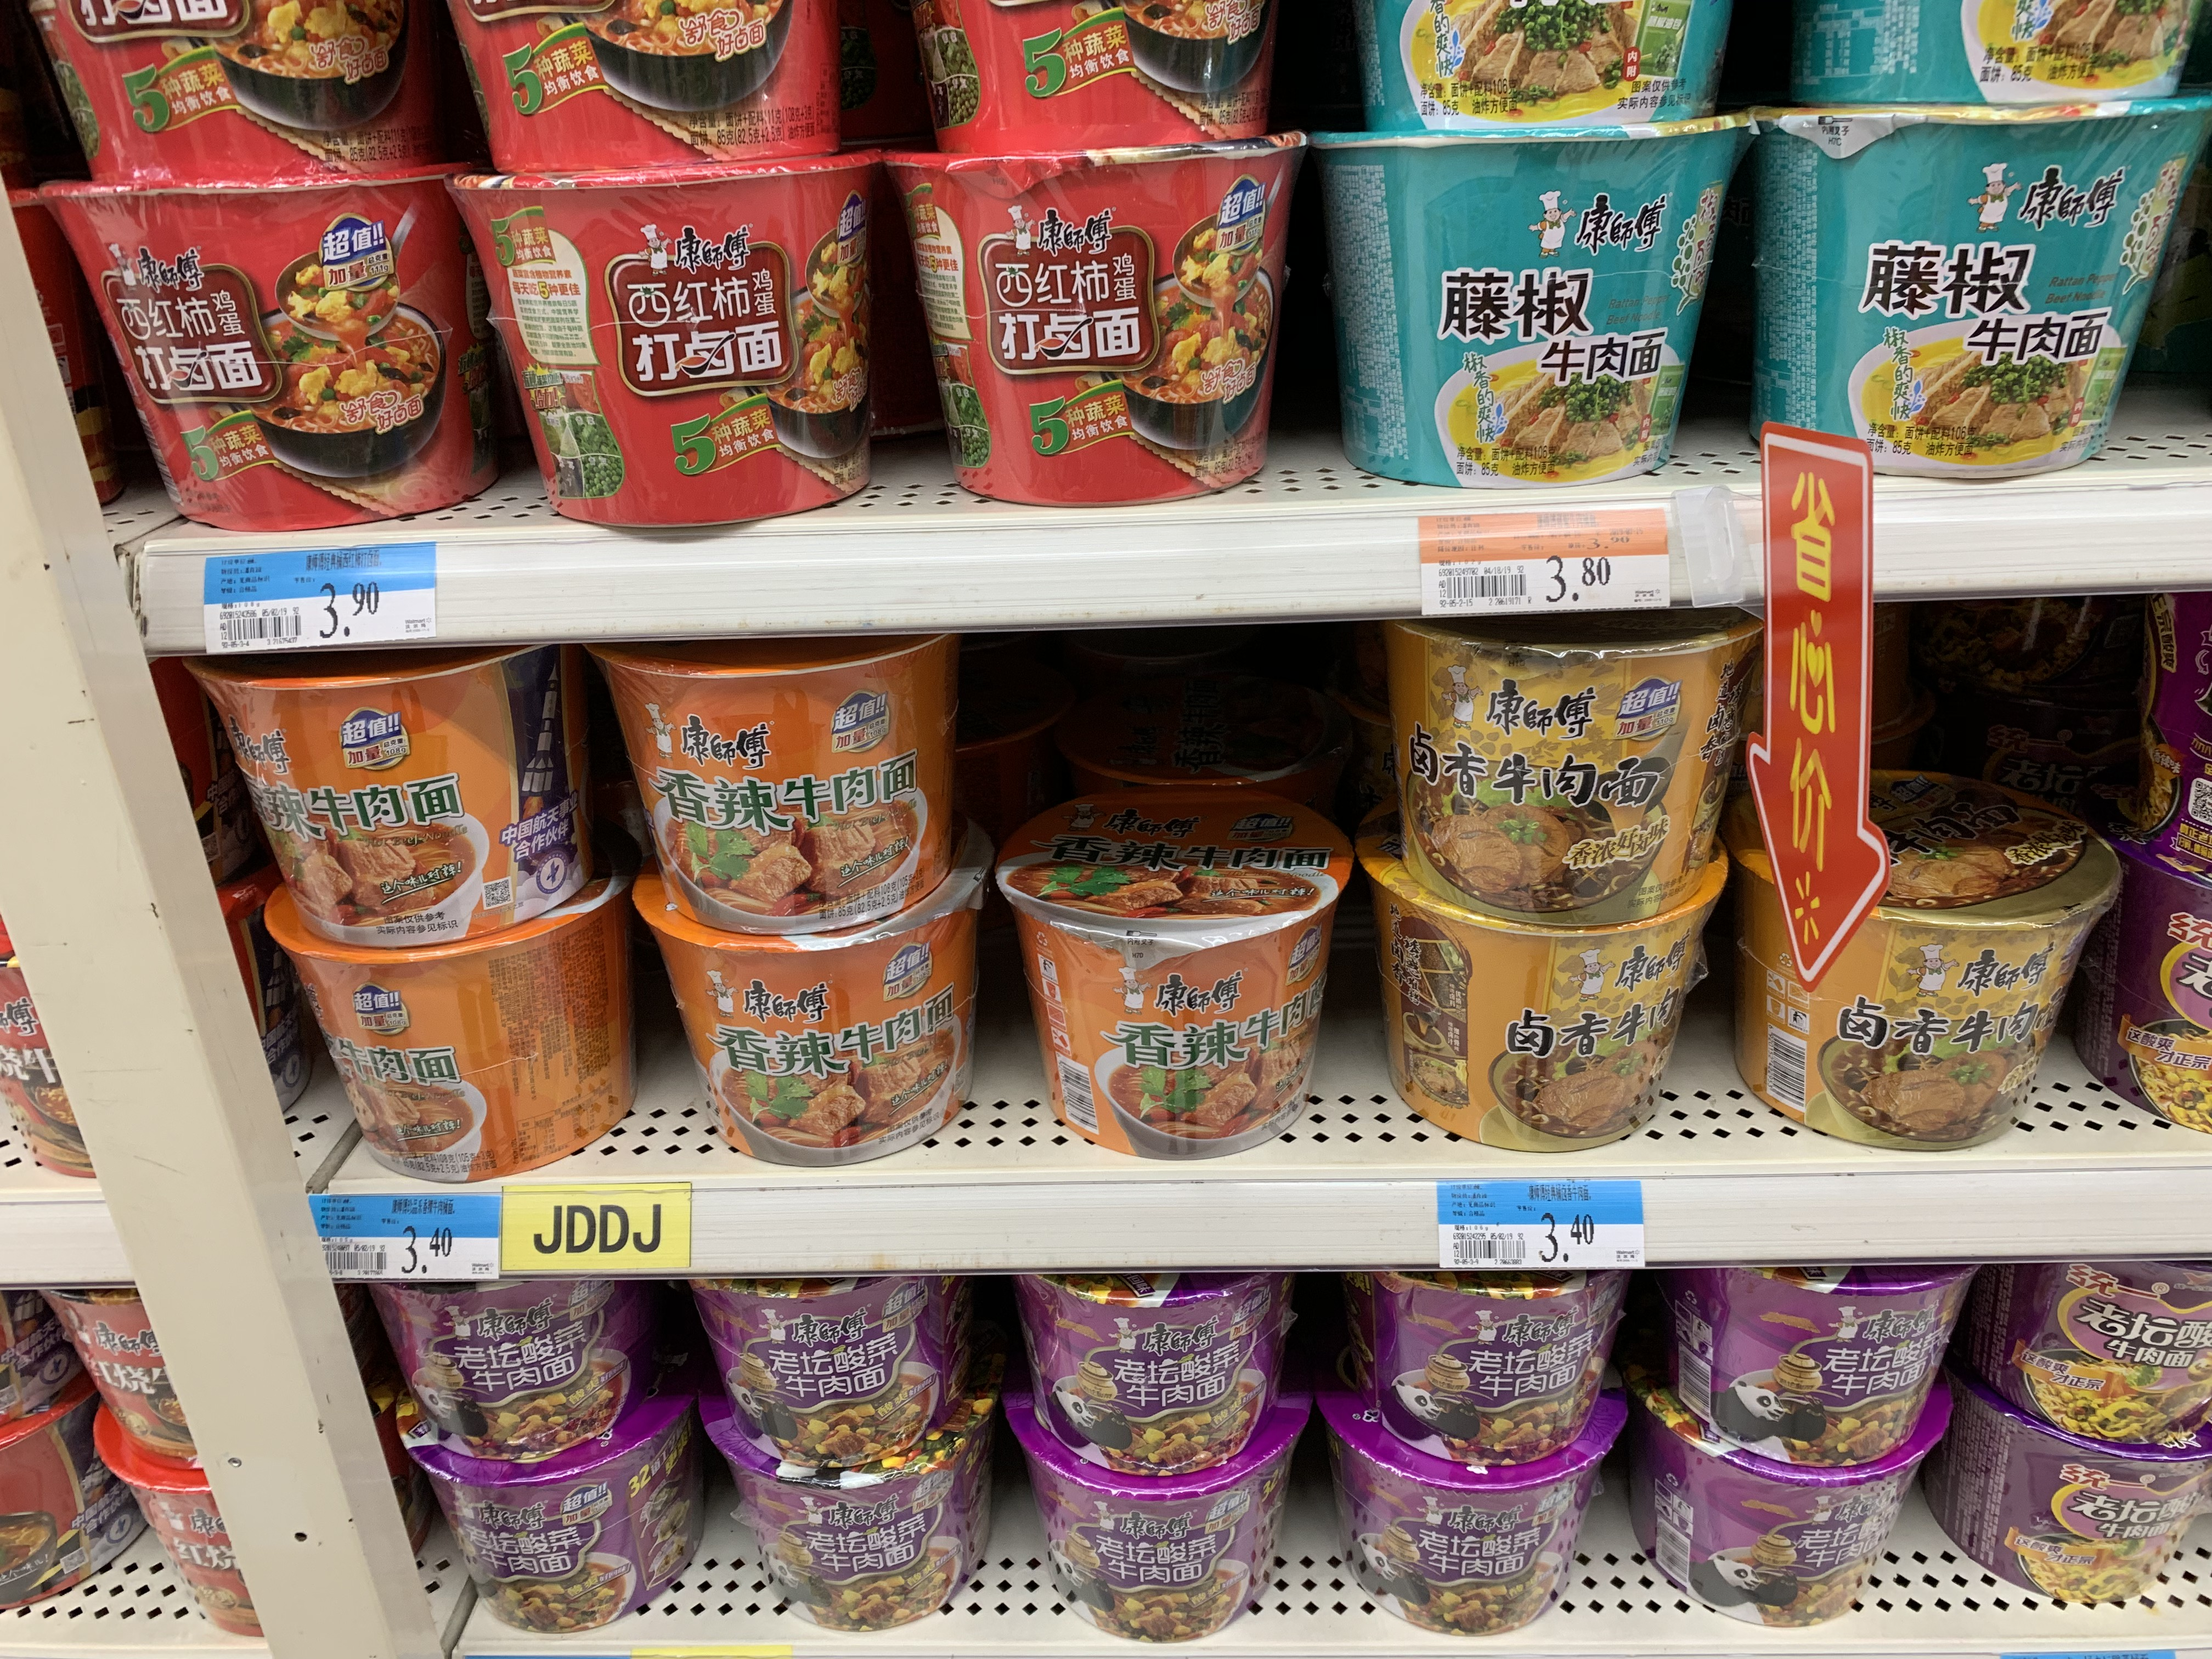luxiang: (1731, 765, 2123, 1154), (1383, 610, 1766, 932), (1379, 929, 1730, 1155)
xiangla: (991, 784, 1355, 1162), (171, 650, 590, 946), (583, 634, 968, 939), (265, 943, 632, 1185)
